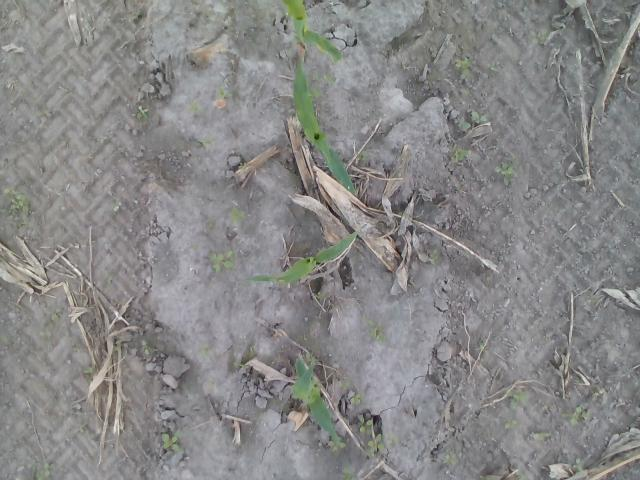Maize: (292, 53, 358, 193), (240, 232, 358, 284), (291, 354, 340, 444), (281, 0, 343, 63)
Weeds: (0, 185, 31, 228), (368, 433, 398, 458), (208, 248, 235, 273), (458, 111, 488, 129), (366, 318, 386, 344), (565, 403, 585, 425), (160, 432, 181, 452), (28, 462, 49, 480), (527, 28, 548, 46), (510, 389, 528, 409), (494, 159, 514, 176), (453, 56, 473, 73), (230, 206, 248, 224), (218, 85, 240, 98), (326, 438, 347, 450), (454, 148, 472, 162), (135, 104, 150, 120), (358, 415, 372, 432), (0, 334, 17, 346), (504, 418, 520, 430), (320, 72, 337, 83), (350, 392, 363, 406), (186, 103, 203, 112), (442, 454, 457, 464), (142, 337, 150, 355), (306, 356, 316, 370), (430, 248, 440, 262), (339, 472, 354, 480), (572, 458, 582, 470), (39, 327, 52, 336), (82, 367, 92, 378), (112, 199, 120, 212), (232, 360, 245, 368), (310, 88, 320, 98), (516, 471, 526, 480), (200, 347, 208, 358), (357, 151, 365, 162), (536, 432, 546, 440), (486, 64, 496, 72), (314, 290, 322, 300), (79, 424, 87, 432), (478, 339, 484, 349), (313, 15, 320, 22)
